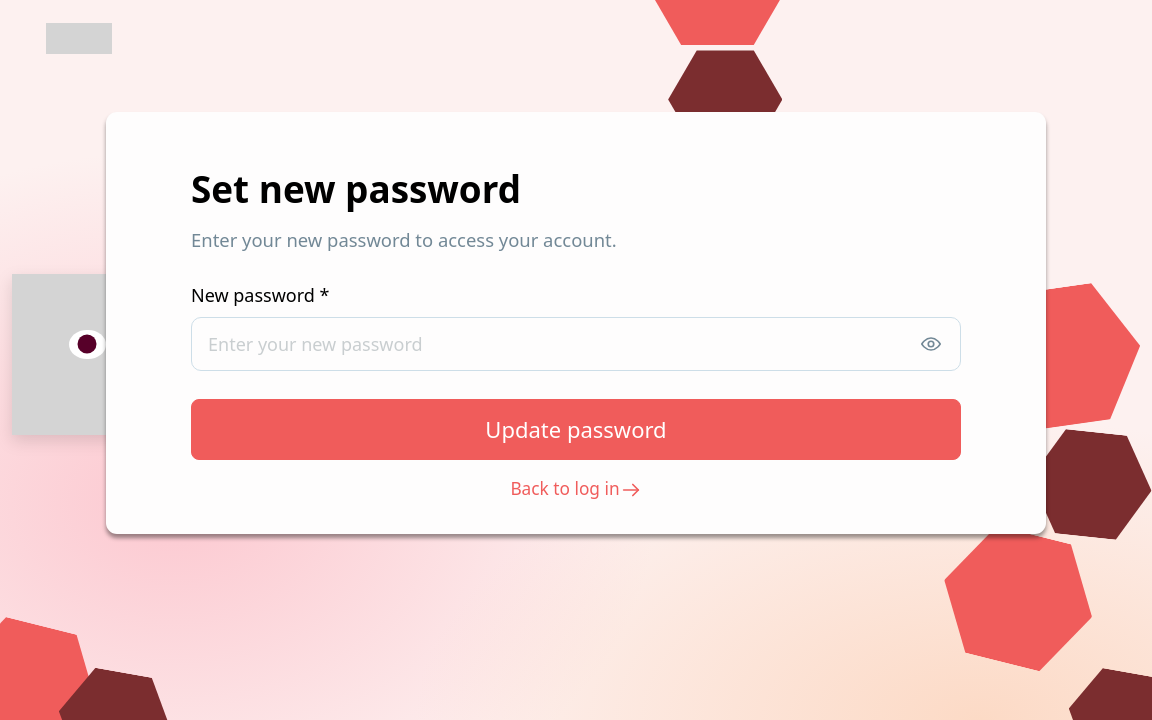
Test: UpdatePassword page › displays error banner when updatePassword returns same_password error
In the password field labelled "New password *": (576, 344) [191,317,961,371], type "samePassword123"
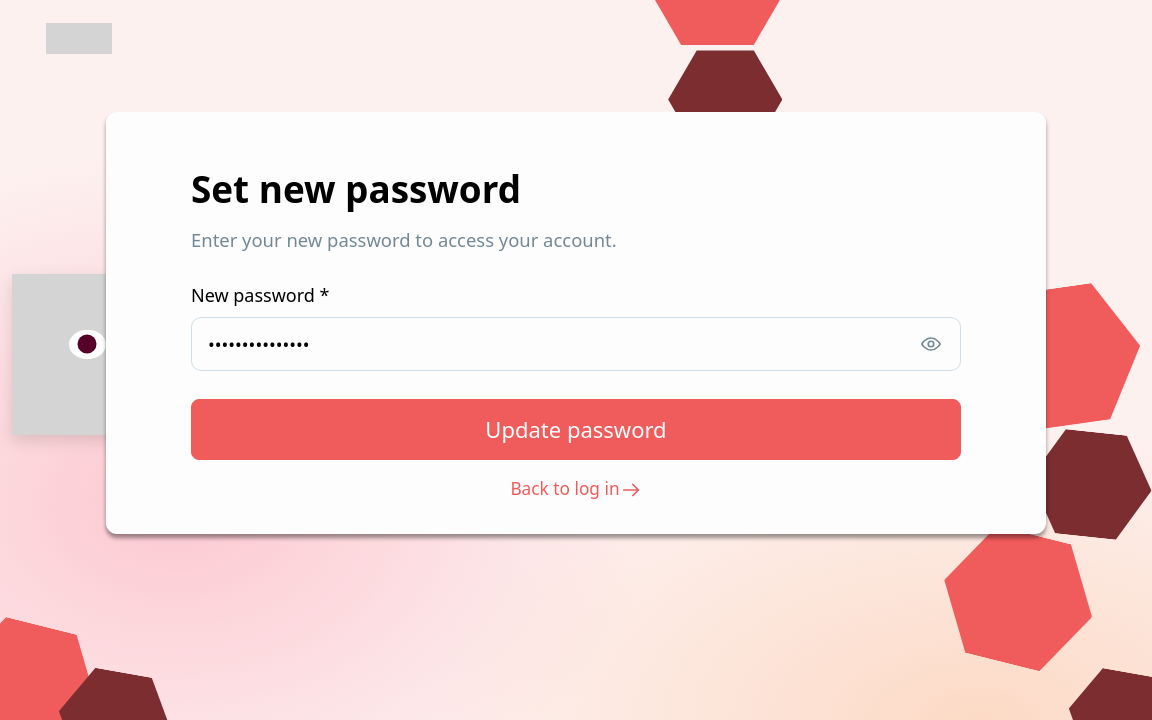
Click the button "Update password": click(576, 430) [191,399,961,460]
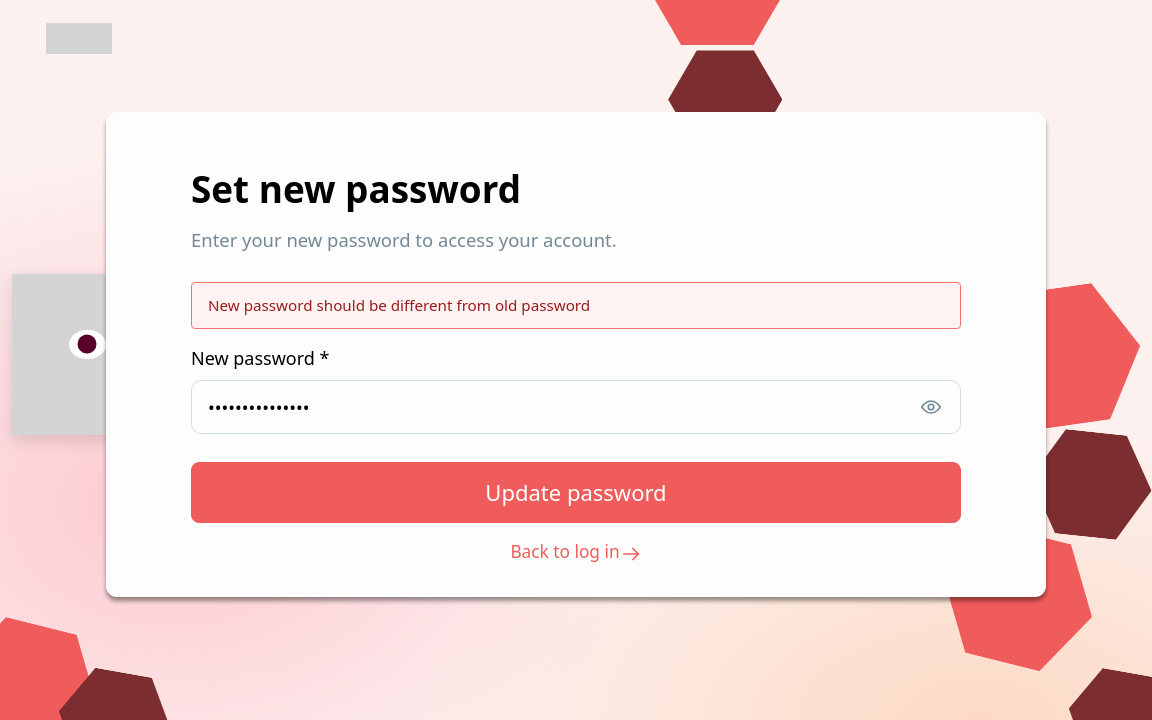
Expected: the text "New password should be different from old password" is shown, [208,295,590,315]
